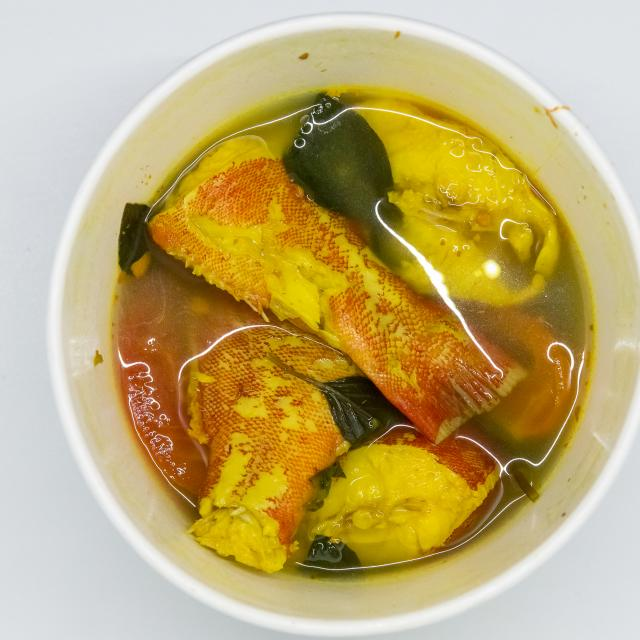Gulai-Ikan-Mas: (114, 108, 583, 582)
